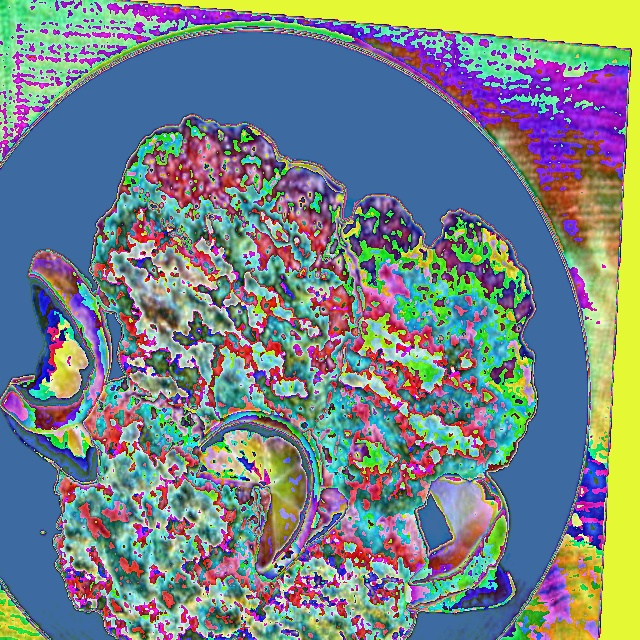background: (0, 117, 538, 639)
